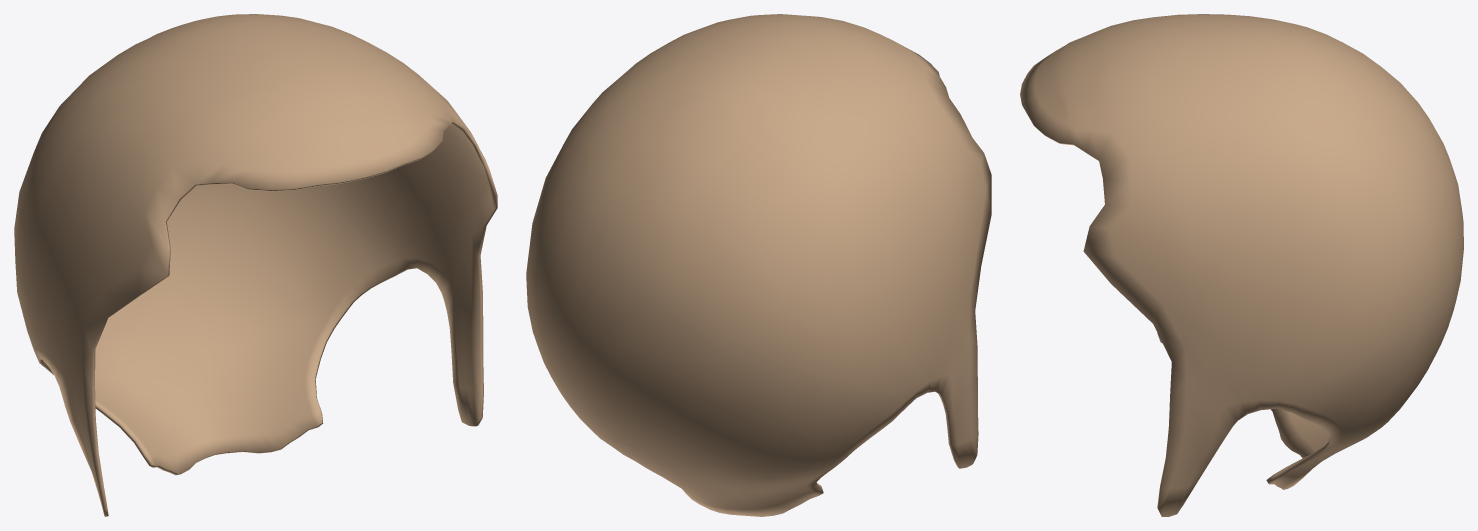
The model's file is hair-1-eb87e580.glb.
3 renders of one model, left to right at view 1: azimuth 30°, elevation 25°; view 2: azimuth 150°, elevation 25°; view 3: azimuth 270°, elevation 25°, orthographic. The views are drawn at different scales.
Parts seen in each view (by area): view 1: Geo_White_Older_Female_Hair_1.001; view 2: Geo_White_Older_Female_Hair_1.001; view 3: Geo_White_Older_Female_Hair_1.001.
Part boxes in pixels (x1,y1,x2,y2): Geo_White_Older_Female_Hair_1.001: (14, 14, 497, 516); Geo_White_Older_Female_Hair_1.001: (526, 14, 991, 516); Geo_White_Older_Female_Hair_1.001: (1020, 14, 1463, 516).
Size of the model in its own units: 1.39 by 1.51 by 1.4.
